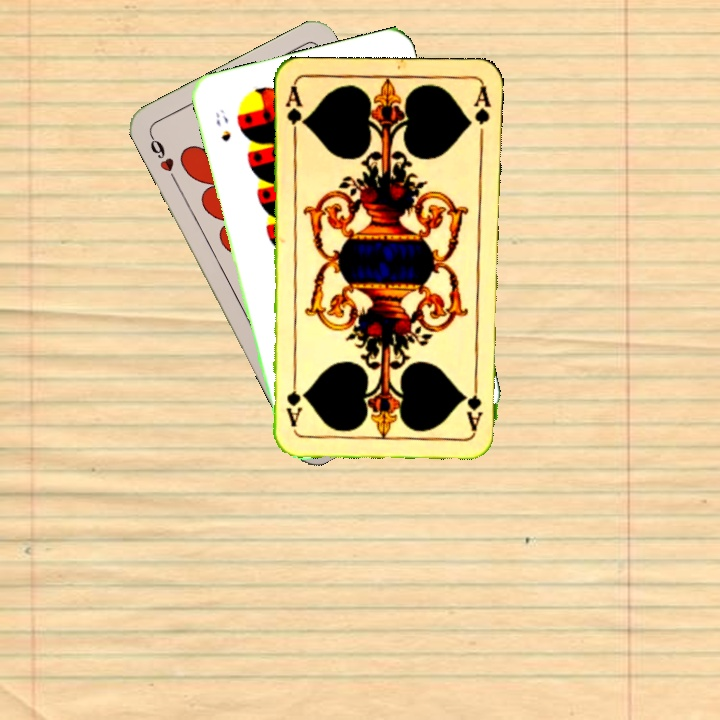GA: (281, 82, 308, 141), (465, 374, 486, 433)
H9: (145, 130, 179, 185)
S8: (212, 105, 234, 144)
